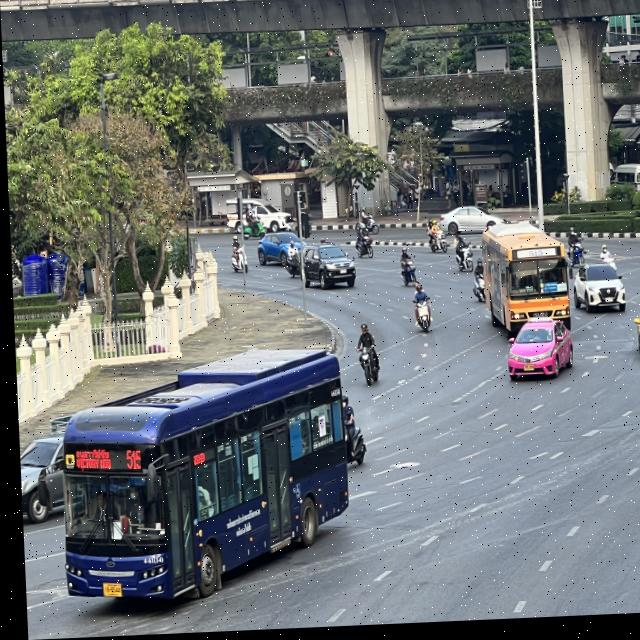BMTA-bus: (480, 228, 567, 370)
Bus Line Number: (118, 445, 140, 473), (525, 253, 542, 262)
Bus Side Number: (136, 558, 159, 568)
Destination Sign: (69, 448, 109, 474), (541, 288, 555, 297)
TSB-Bus: (55, 354, 360, 606)
